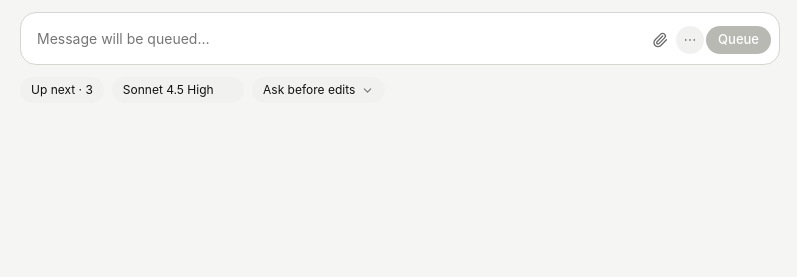
Test: editing a queued message › opens nothing and says so when the device had already sent the message
Click the text box named "Message the agent…" at (338, 38), box [37, 21, 638, 56]
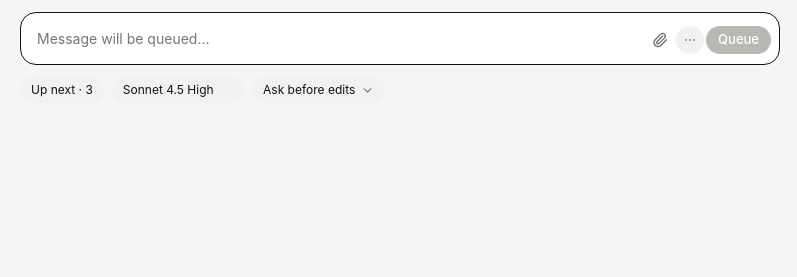
Type keys "half a thought"
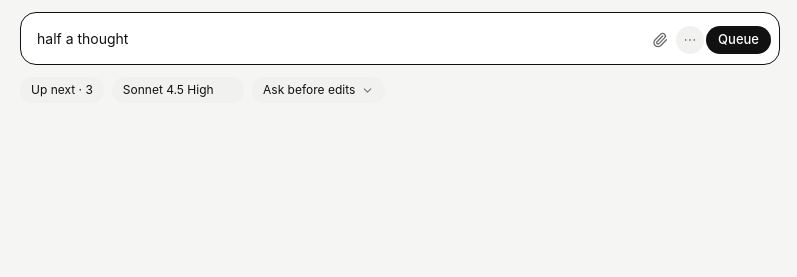
Click the button "Up next · 3" at (62, 90), box [20, 77, 104, 103]
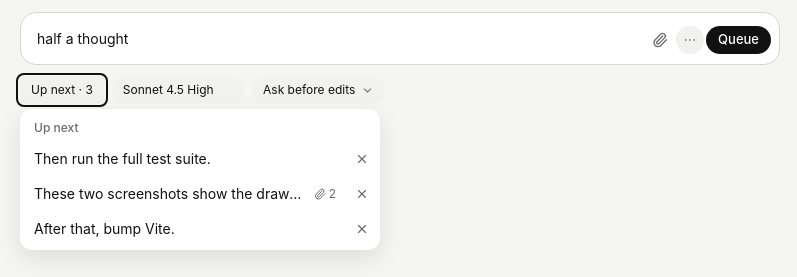
Click the button "Then run the full test suite." at (185, 158), box [24, 141, 346, 176]
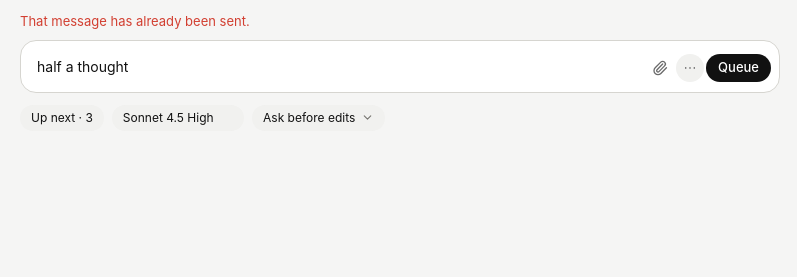
Result: the text box named "Message the agent…" holds "half a thought" at [37, 48, 638, 84]
Result: the text "That message has already been sent." is shown at [20, 13, 250, 29]
